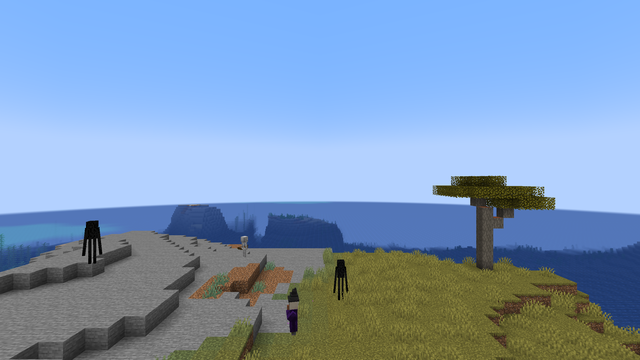endermens: (83, 219, 99, 263), (336, 258, 345, 301)
sorcieres: (287, 295, 298, 335)
squelettes: (240, 236, 247, 257)
